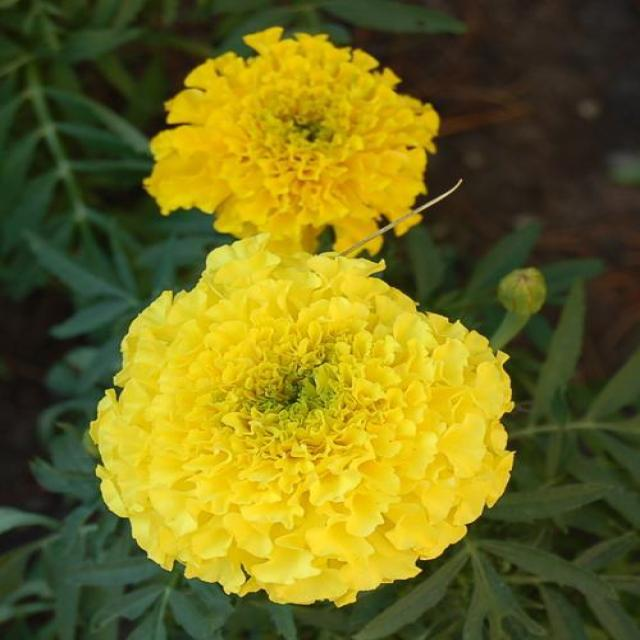marigold: (117, 4, 504, 625)
